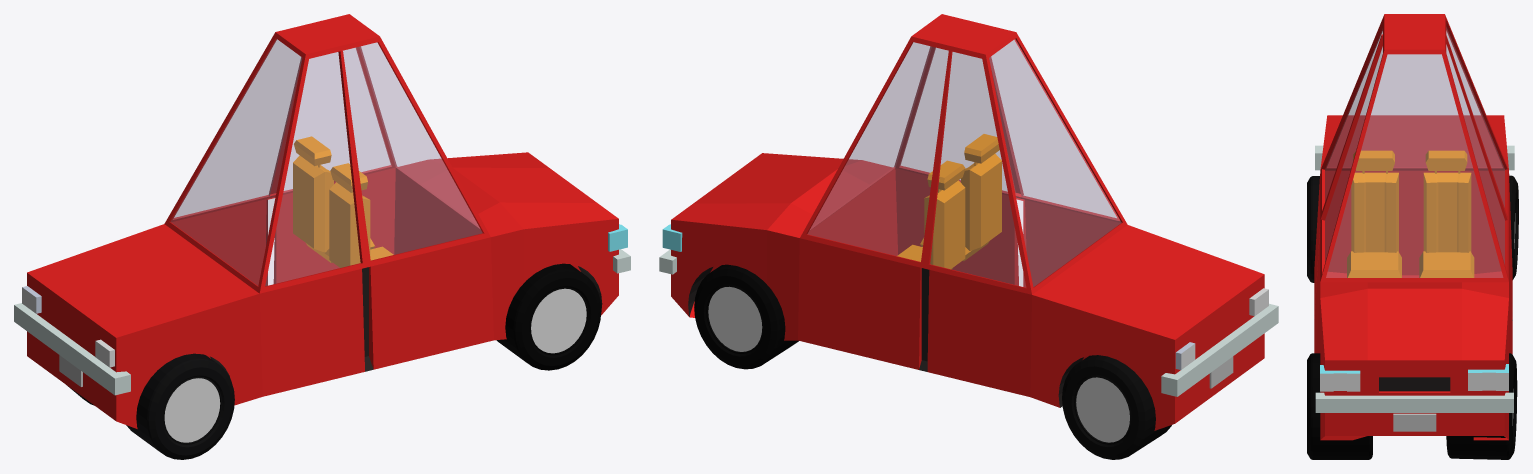
3 renders of one model, left to right at view 1: azimuth 30°, elevation 25°; view 2: azimuth 150°, elevation 25°; view 3: azimuth 270°, elevation 25°, orthographic.
Parts seen in each view (by area): view 1: Cube, Cylinder.005, Cylinder.004, Cube.009, Cube.010, Cube.005; view 2: Cube, Cylinder.006, Cylinder.007, Cube.010, Cube.009, Cube.005; view 3: Cube, Cube.009, Cube.010, Cube.008, Cylinder.004, Cylinder.007, Cylinder.005, Cube.002, Cube.001, Cube.003, Cylinder.006, Cube.005.
Part boxes in pixels (x1,y1,x2,y2): Cube: [27, 14, 618, 428]; Cylinder.005: [126, 353, 234, 459]; Cylinder.004: [496, 263, 601, 370]; Cube.009: [293, 136, 374, 262]; Cube.010: [329, 163, 393, 267]; Cube.005: [14, 303, 130, 395]; Cube: [671, 14, 1264, 430]; Cylinder.006: [1062, 355, 1171, 459]; Cylinder.007: [694, 264, 798, 369]; Cube.010: [920, 134, 1001, 261]; Cube.009: [897, 160, 965, 269]; Cube.005: [1161, 303, 1278, 396]; Cube: [1314, 14, 1512, 440]; Cube.009: [1419, 150, 1474, 277]; Cube.010: [1347, 150, 1401, 277]; Cube.008: [1315, 392, 1513, 412]; Cylinder.004: [1307, 353, 1372, 459]; Cylinder.007: [1446, 353, 1517, 459]; Cylinder.005: [1307, 176, 1319, 282]; Cube.002: [1468, 364, 1508, 390]; Cube.001: [1320, 365, 1360, 391]; Cube.003: [1393, 413, 1436, 431]; Cylinder.006: [1509, 175, 1518, 279]; Cube.005: [1315, 145, 1514, 170].
Bounding box in the file's own units: 626 × 395 × 225.
